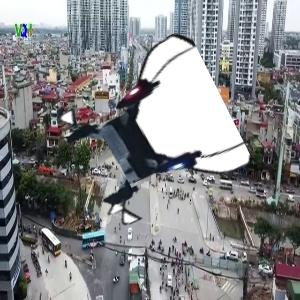drone: (66, 54, 232, 220)
